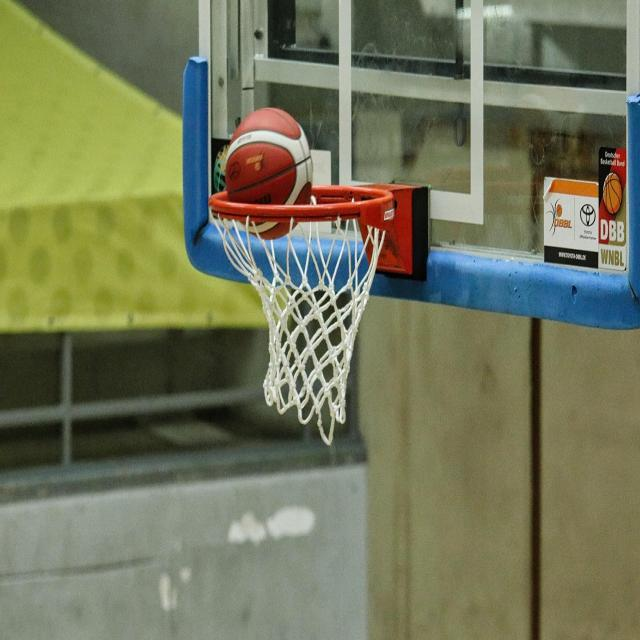rebound_hit: (221, 107, 312, 237)
